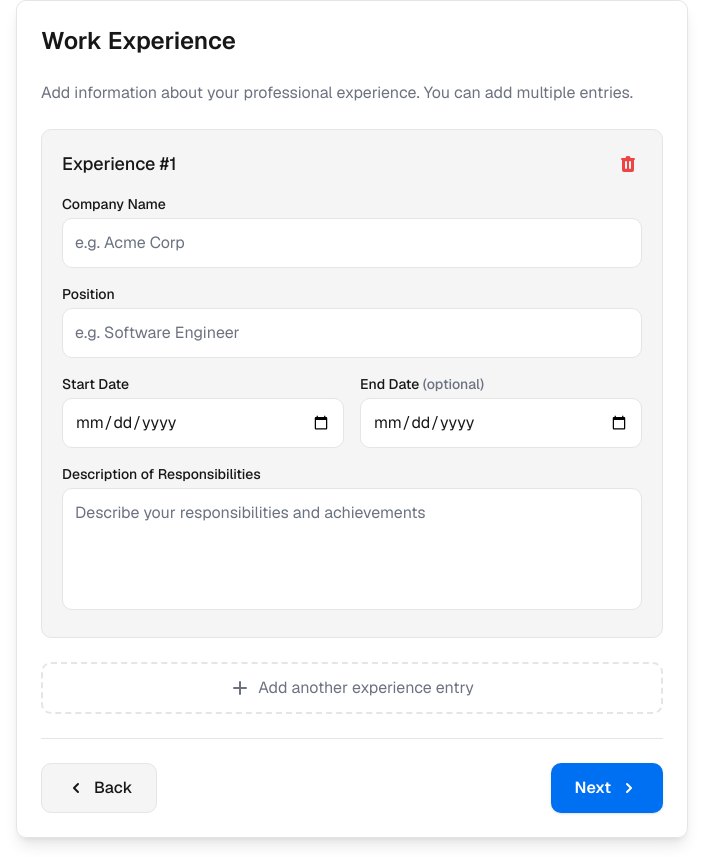
Scenario: WorkExpForm Component › Walidacja i przesyłanie (Submit) › powinien pokazać błędy, jeśli wysłano puste wymagane pola
The image size is (705, 860).
Step 1. Click the button "Next" → (607, 788), box [551,763,663,813]
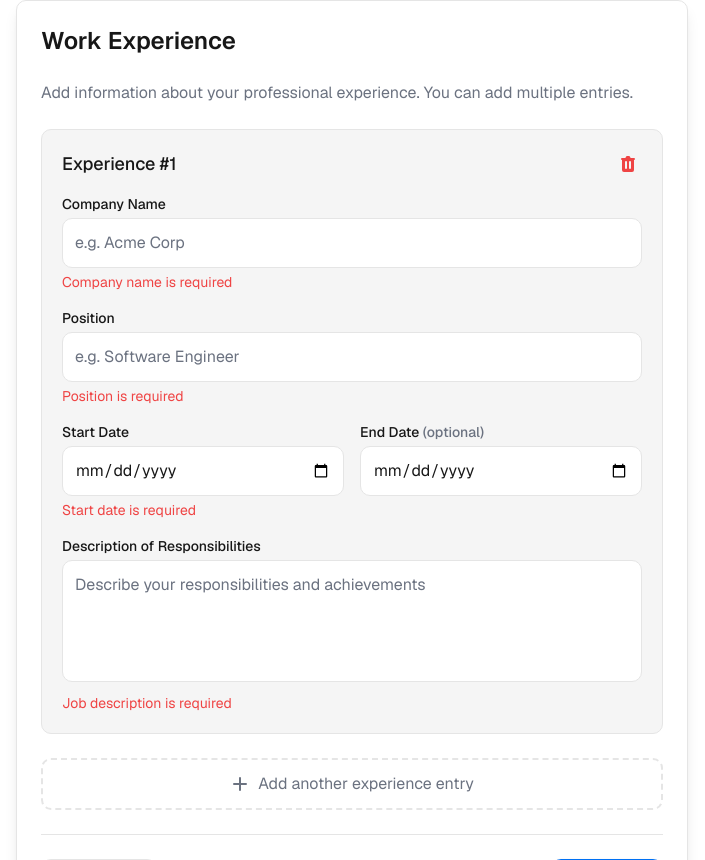
Expected: the text "Company name is required" is shown, [62,273,232,291]
Expected: the text "Position is required" is shown, [62,387,184,405]
Expected: the text "Start date is required" is shown, [62,501,196,519]
